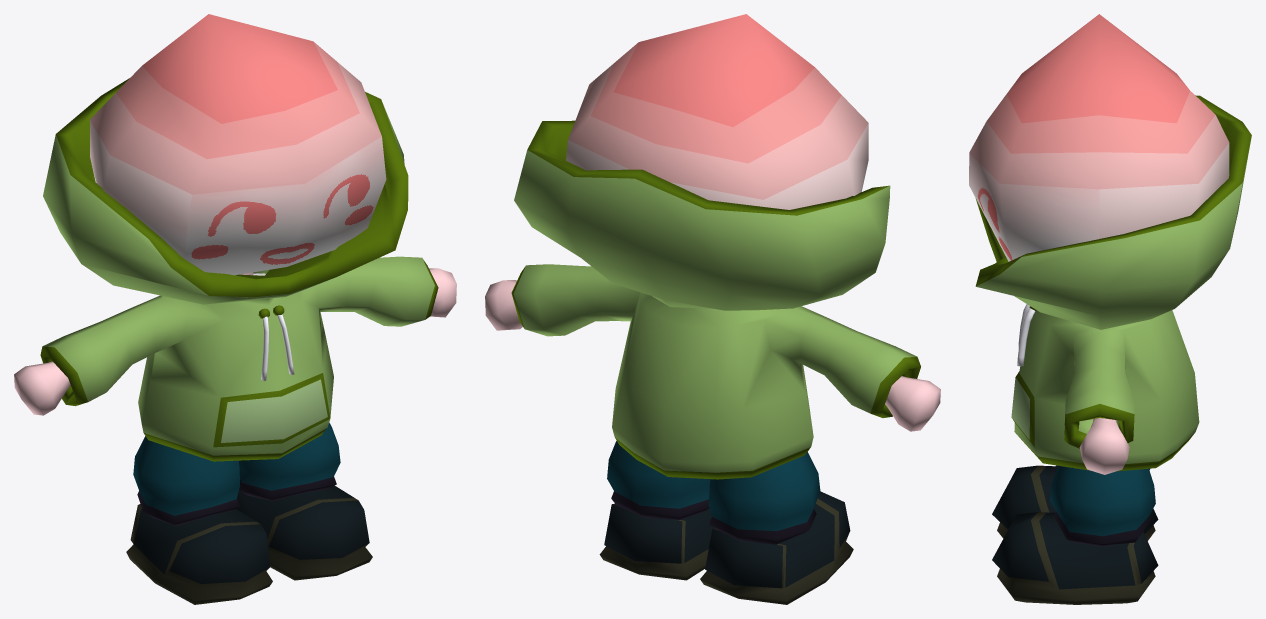
File: tiramysu-liltao.glb
The picture shows the model from 3 angles, left to right: view 1: azimuth 30°, elevation 25°; view 2: azimuth 150°, elevation 25°; view 3: azimuth 270°, elevation 25°; orthographic projection. The views are drawn at different scales.
Parts seen in each view (by area): view 1: Hoodie, Head, Shoes, Pants, Limbs; view 2: Hoodie, Head, Shoes, Pants, Limbs; view 3: Hoodie, Head, Shoes, Pants, Limbs, String_L.
Part boxes in pixels (bbox=[...]): Hoodie: bbox=[40, 78, 438, 461]; Head: bbox=[89, 14, 386, 275]; Shoes: bbox=[126, 485, 372, 604]; Pants: bbox=[133, 422, 340, 526]; Limbs: bbox=[14, 268, 456, 415]; Hoodie: bbox=[511, 120, 920, 479]; Head: bbox=[566, 14, 868, 209]; Shoes: bbox=[599, 491, 853, 604]; Pants: bbox=[607, 440, 820, 544]; Limbs: bbox=[485, 280, 940, 431]; Hoodie: bbox=[975, 95, 1251, 471]; Head: bbox=[969, 14, 1229, 261]; Shoes: bbox=[992, 465, 1158, 604]; Pants: bbox=[1050, 465, 1155, 546]; Limbs: bbox=[1079, 418, 1129, 474]; String_L: bbox=[1017, 308, 1035, 366].
Bounding box in the file's own units: 1 × 1.22 × 0.5832.
Materials: 2 (2 with a texture image).
